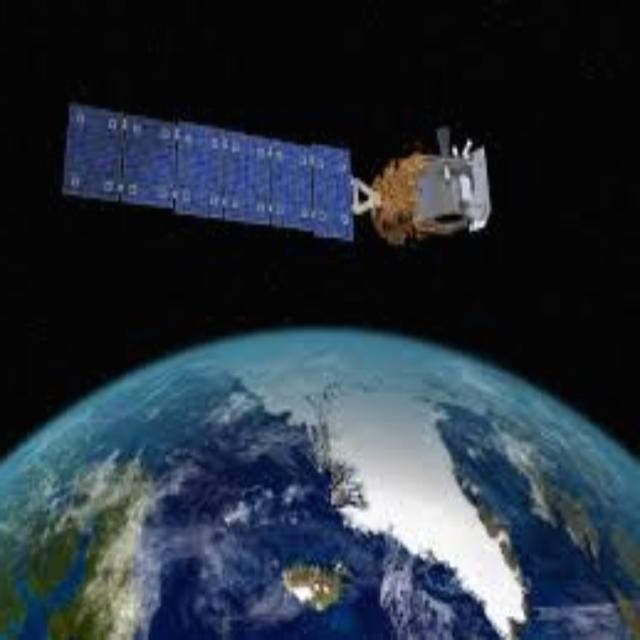medium_debris: (55, 108, 501, 246)
